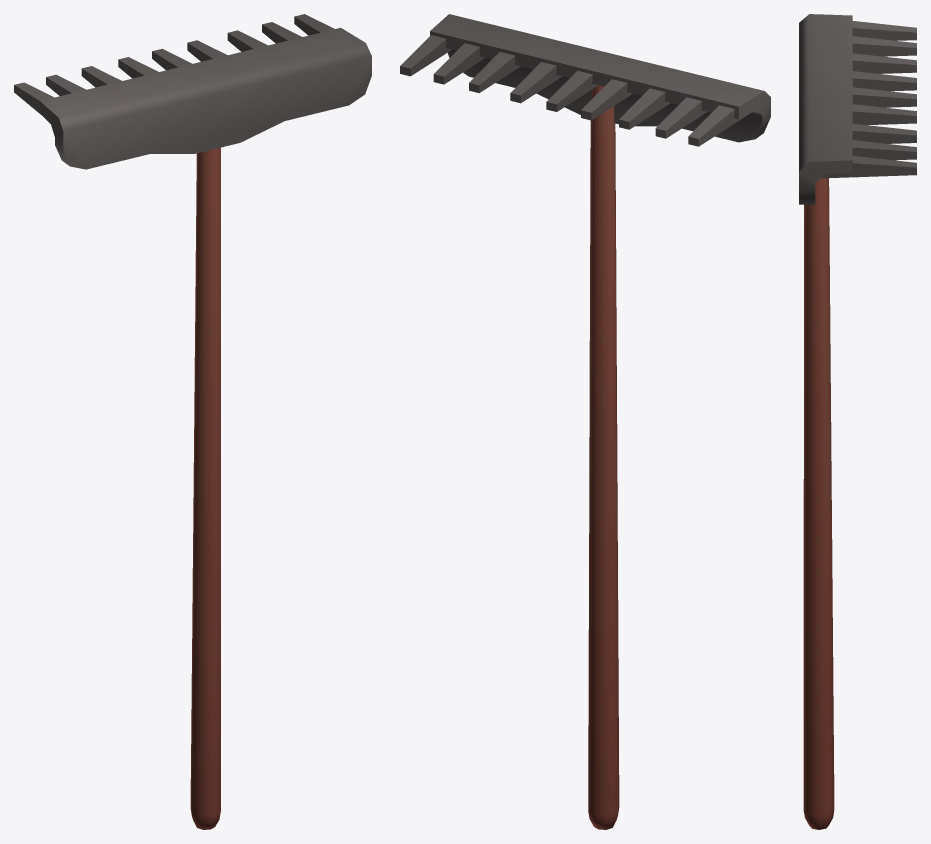
The model's file is Rake.fbx.
3 renders of one model, left to right at view 1: azimuth 30°, elevation 25°; view 2: azimuth 150°, elevation 25°; view 3: azimuth 270°, elevation 25°, orthographic. The views are drawn at different scales.
Parts seen in each view (by area): view 1: Rake; view 2: Rake; view 3: Rake.
Boxes of the visible parts, x1,y1,x2,y2 form: Rake: (14,14,371,829); Rake: (400,14,770,829); Rake: (799,14,916,829).
Bounding box in the file's own units: 69.97 × 23.42 × 162.
